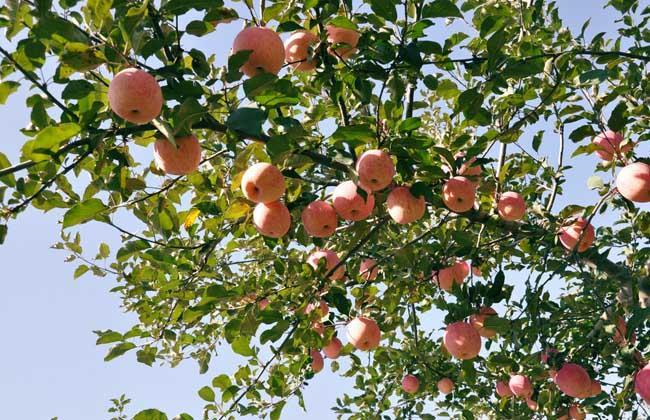apple: (108, 67, 163, 125), (231, 25, 284, 76), (151, 130, 201, 174), (240, 162, 285, 204), (332, 179, 374, 222), (356, 149, 395, 191), (386, 186, 427, 224), (283, 31, 321, 72), (558, 212, 595, 253), (253, 198, 291, 237), (443, 319, 480, 358), (301, 199, 338, 237), (617, 161, 649, 202), (321, 21, 358, 55), (442, 176, 476, 212), (554, 363, 590, 396), (345, 316, 381, 349), (497, 191, 527, 220), (509, 373, 534, 397), (322, 337, 343, 357)
